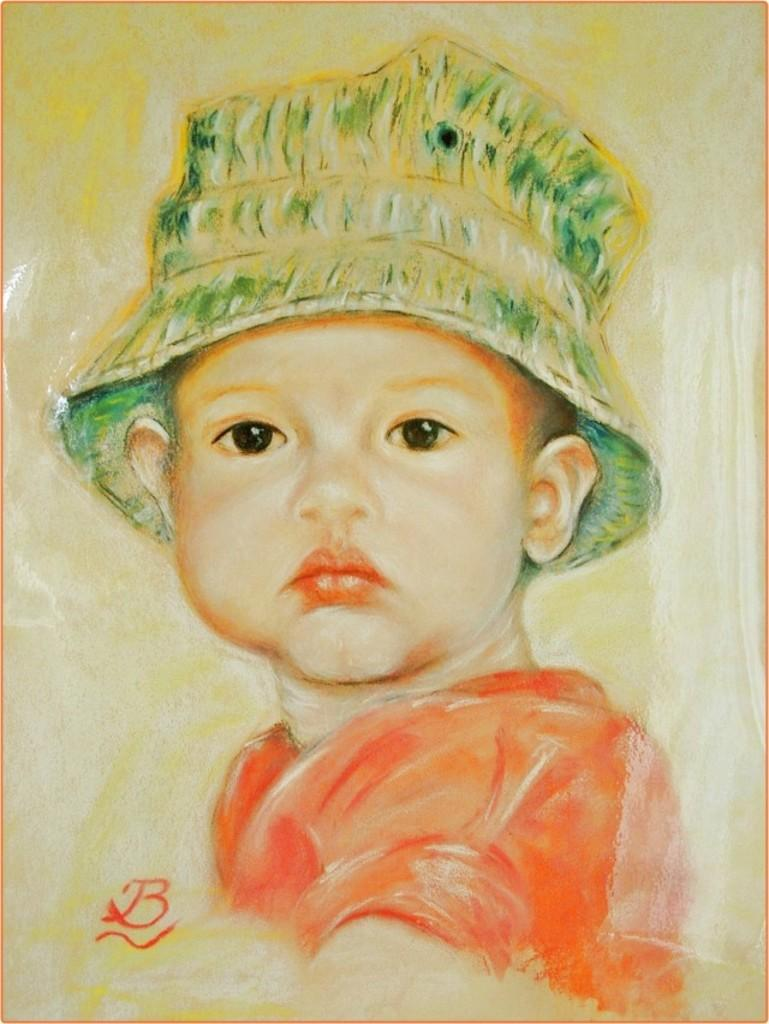Hat: (40, 40, 662, 572)
